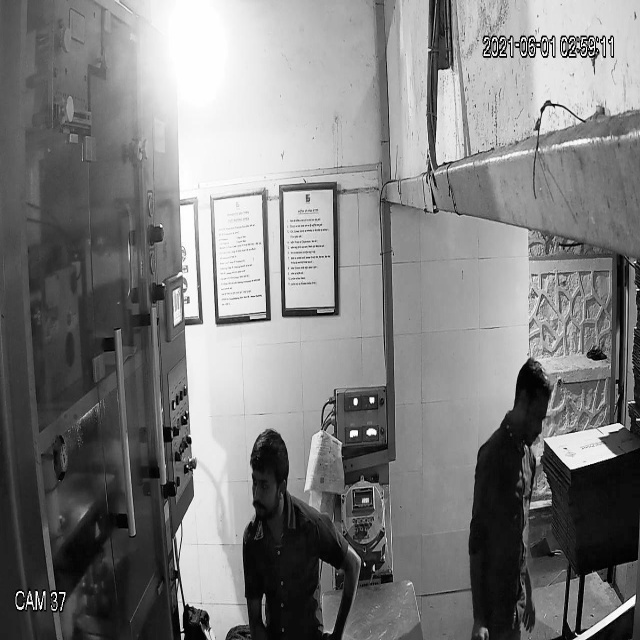Sin_gafas: (248, 469, 287, 502)
